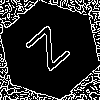Z: (25, 25, 79, 79)
